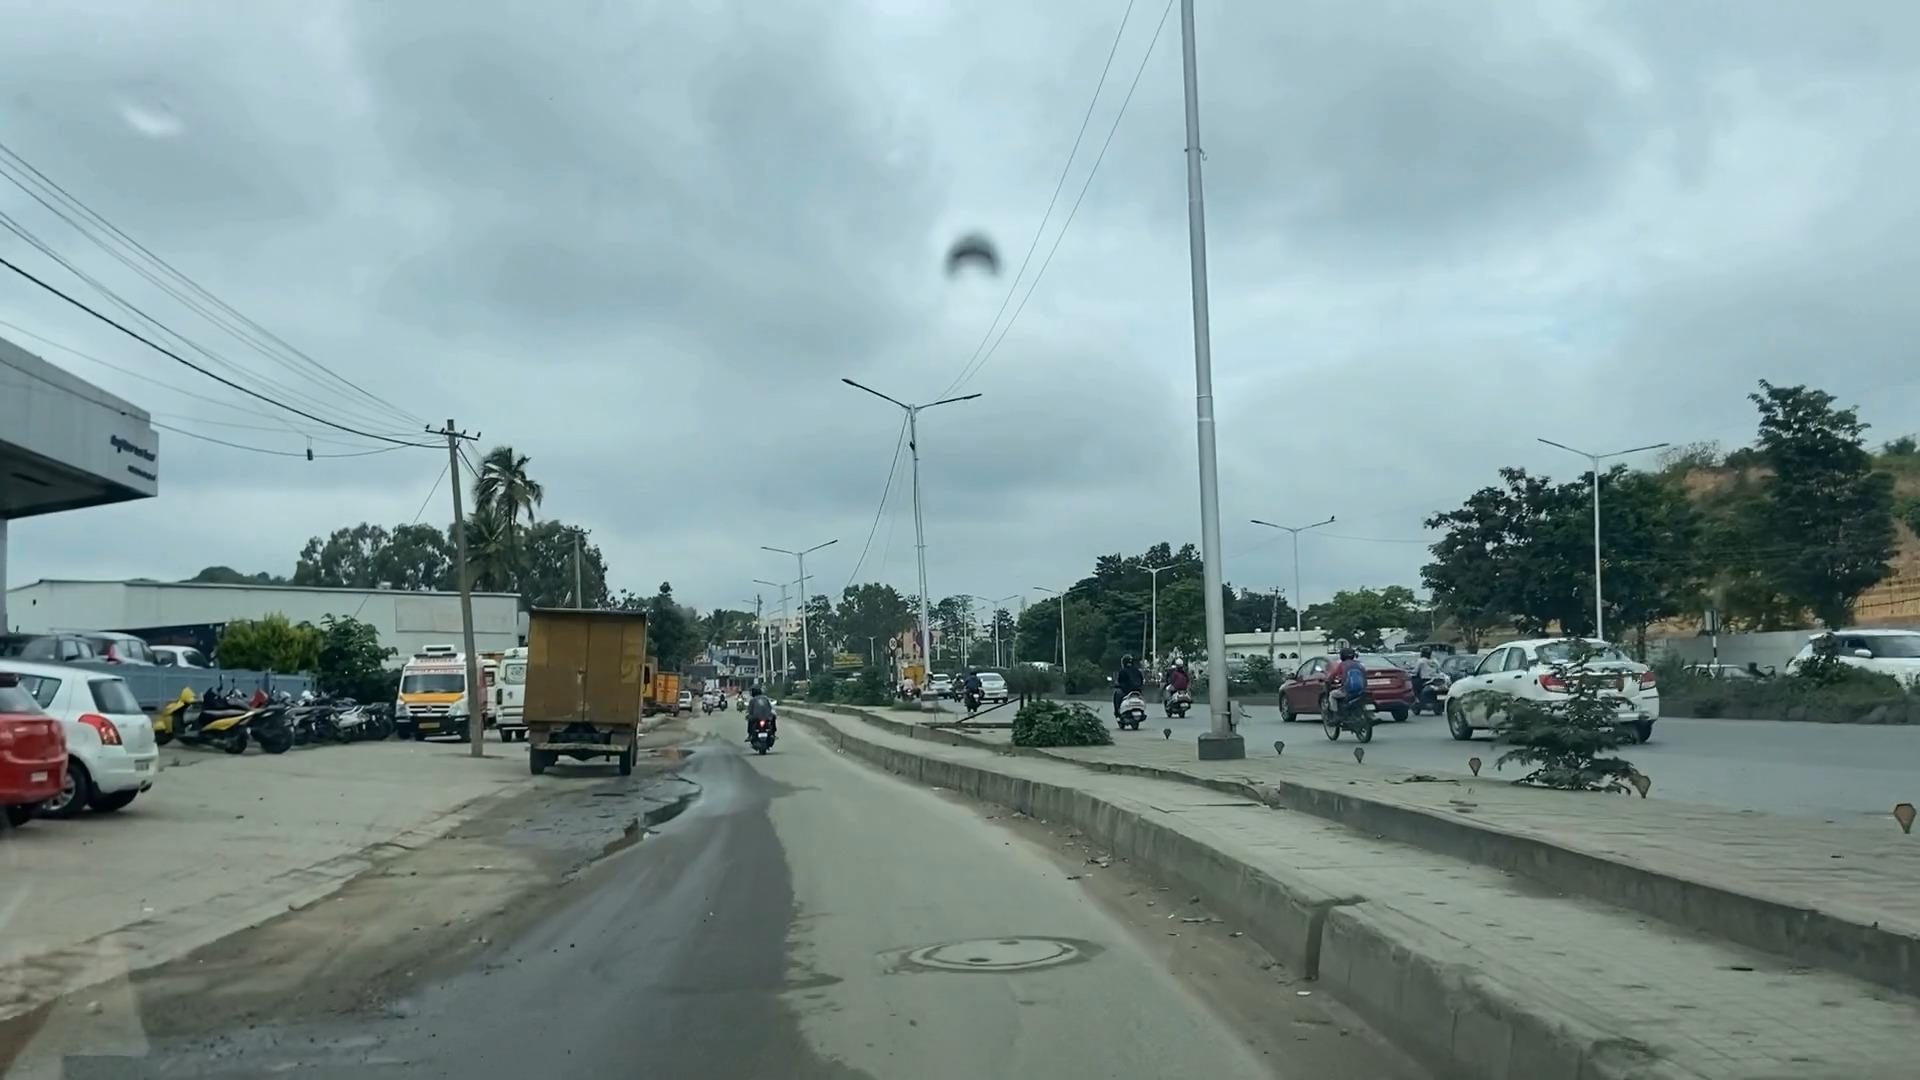RoadDamages: (173, 986, 436, 1080), (877, 910, 1110, 997)
